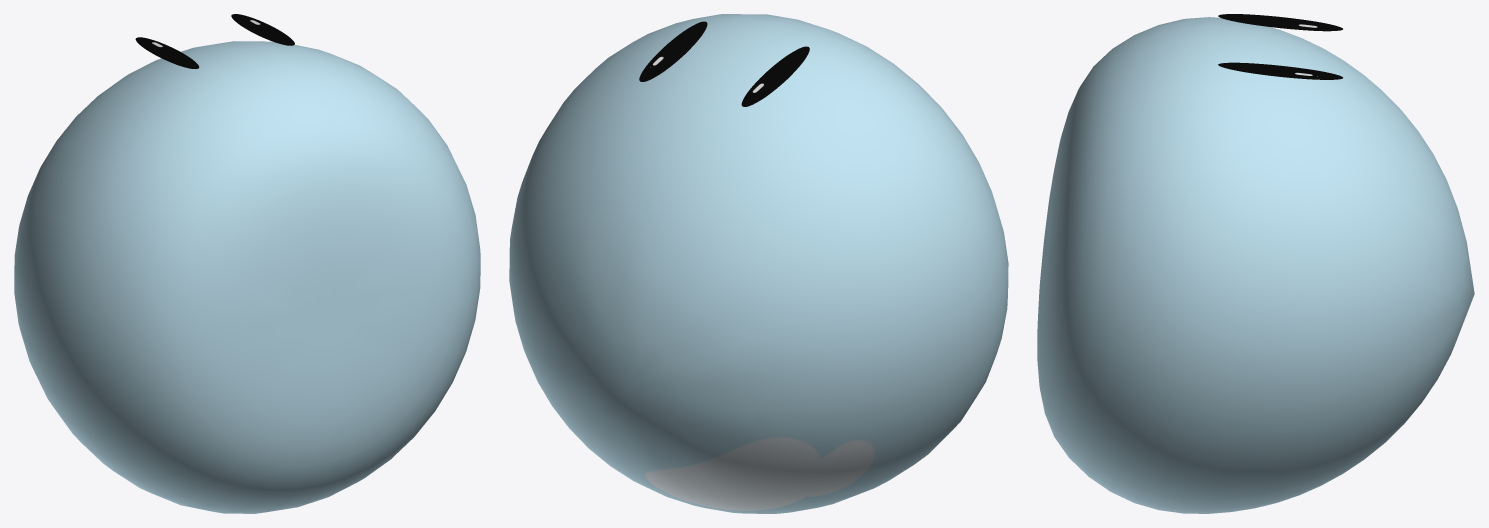
The model's file is korokoro2.fbx.
The picture shows the model from 3 angles, left to right: view 1: azimuth 30°, elevation 25°; view 2: azimuth 150°, elevation 25°; view 3: azimuth 270°, elevation 25°; orthographic projection. The views are drawn at different scales.
Parts seen in each view (by area): view 1: pCylinder3; view 2: pCylinder3; view 3: pCylinder3.
Part boxes in pixels (bbox=[...]): pCylinder3: bbox=[14, 14, 480, 513]; pCylinder3: bbox=[509, 14, 1008, 513]; pCylinder3: bbox=[1037, 14, 1474, 513].
Bounding box in the file's own units: 1.24 × 1.24 × 1.09.
Materials: 2 (2 with a texture image).
